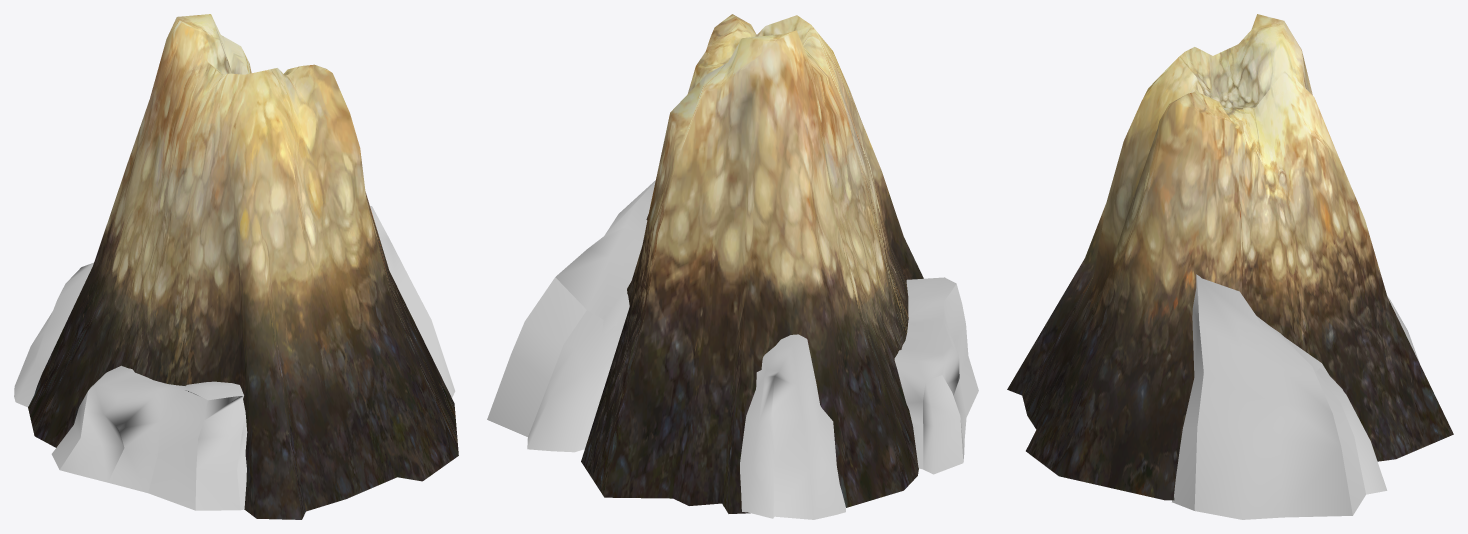
Rendered from borean_geyser_01.obj.
The picture shows the model from 3 angles, left to right: view 1: azimuth 30°, elevation 25°; view 2: azimuth 150°, elevation 25°; view 3: azimuth 270°, elevation 25°; orthographic projection. The views are drawn at different scales.
Visible parts, largest first — view 1: Geoset0, Geoset1; view 2: Geoset0, Geoset1; view 3: Geoset0, Geoset1.
Boxes of the visible parts, bbox=[...] form: Geoset0: bbox=[28, 14, 458, 519]; Geoset1: bbox=[14, 206, 455, 510]; Geoset0: bbox=[581, 14, 923, 513]; Geoset1: bbox=[487, 180, 978, 519]; Geoset0: bbox=[1007, 14, 1453, 500]; Geoset1: bbox=[1172, 274, 1419, 519].
Bounding box in the file's own units: 7.62 × 7.54 × 7.77.
